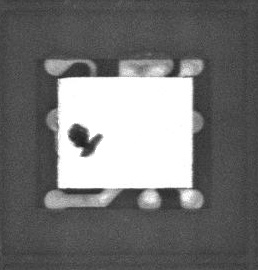DIE_INK: (64, 128, 98, 164)
